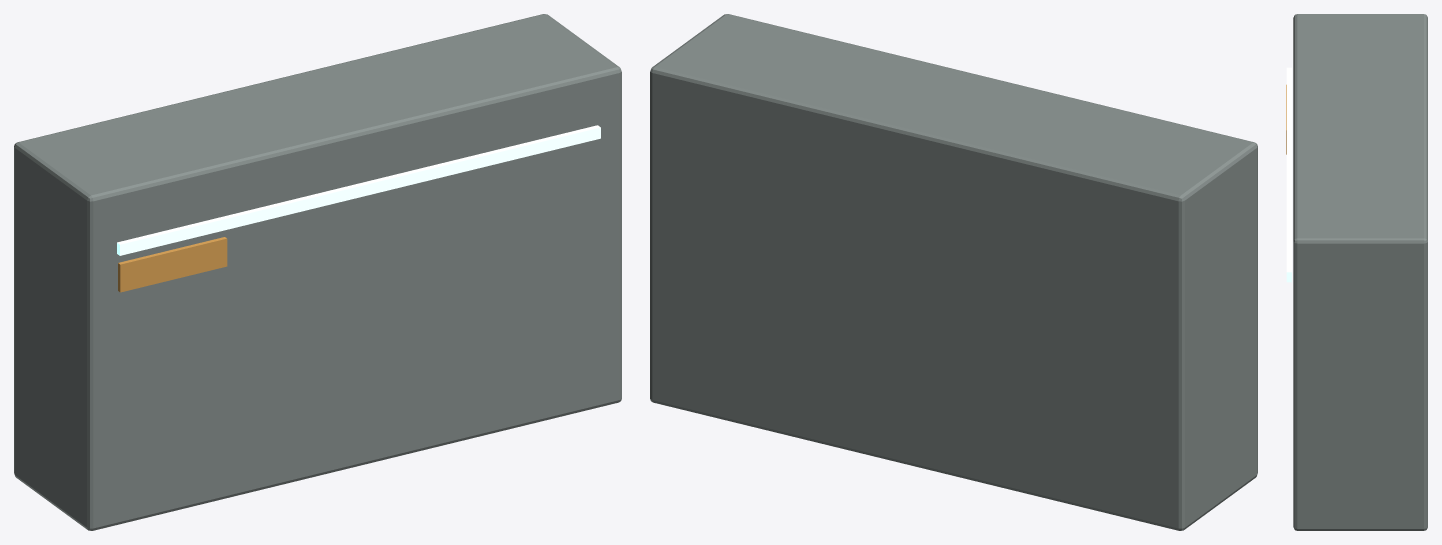
The model's file is prop_battery_rack.glb.
3 renders of one model, left to right at view 1: azimuth 30°, elevation 25°; view 2: azimuth 150°, elevation 25°; view 3: azimuth 270°, elevation 25°, orthographic. The views are drawn at different scales.
Parts seen in each view (by area): view 1: prop_battery_rack; view 2: prop_battery_rack; view 3: prop_battery_rack.
Part boxes in pixels (x1,y1,x2,y2): prop_battery_rack: [14, 14, 621, 530]; prop_battery_rack: [650, 14, 1257, 530]; prop_battery_rack: [1286, 14, 1427, 530].
Bounding box in the file's own units: 4 × 2.4 × 1.06.
